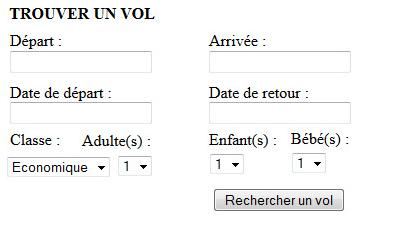button: (213, 188, 345, 212)
field: (9, 101, 153, 126), (208, 50, 352, 73), (9, 51, 152, 74), (208, 102, 352, 124), (6, 157, 111, 178), (117, 155, 152, 177), (291, 153, 327, 174), (209, 153, 243, 174)
field_with_label: (7, 33, 153, 75), (7, 86, 154, 127), (206, 86, 354, 126), (206, 34, 353, 74), (207, 133, 271, 175), (289, 132, 343, 175)
